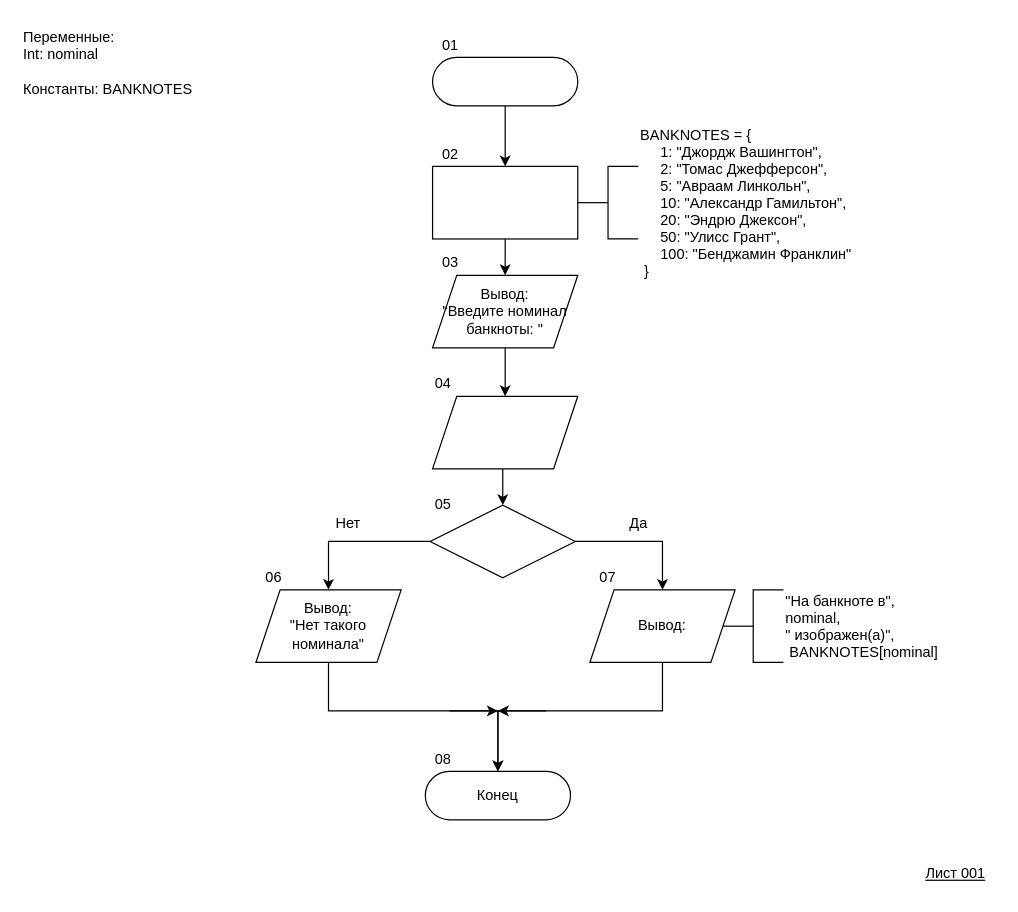
The diagram is 1018 pixels wide and 912 high, and some of its shapes have lost their labels. The box of each missing label's shape, as (x1, y1, x2, y2) in pixels:
nominal есть в BANKNOTES: (429, 504, 575, 578)
Ввод: nominal: (431, 395, 578, 469)
Начало: (431, 56, 578, 106)
